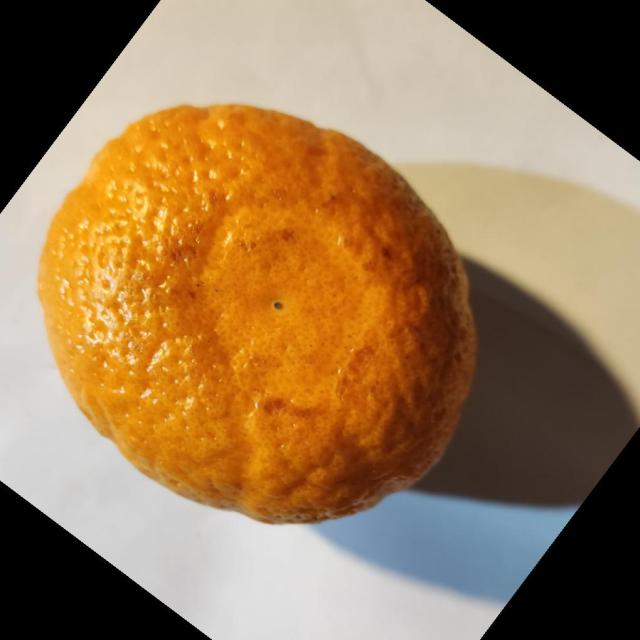fresh orange: (36, 101, 478, 525)
